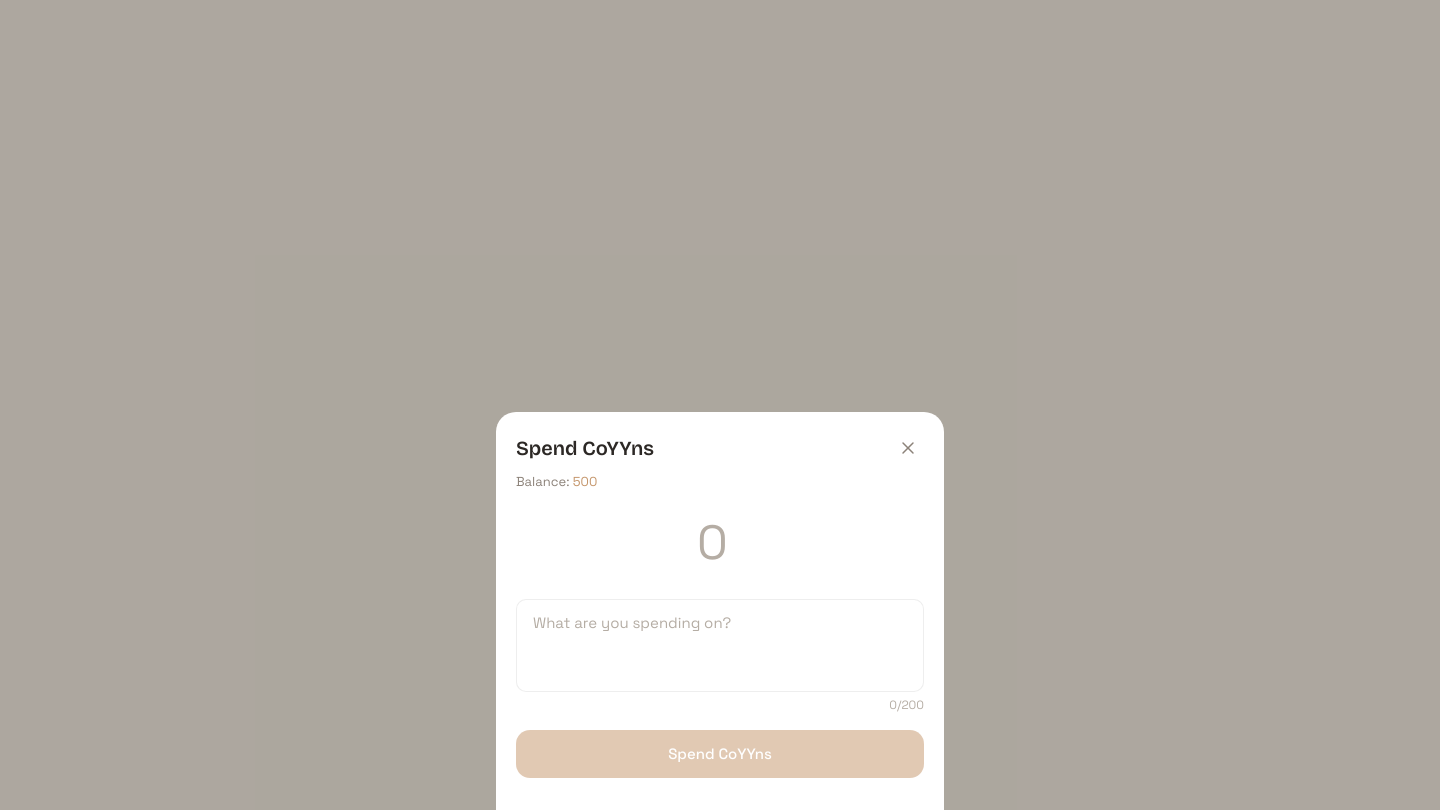
Test case: SpendCoyynsForm › amount within balance shows no warning and button is enabled when description provided
The image size is (1440, 810).
Type "100" into the number field with test id "spend-amount-input" at (720, 547), box 516,512 -> 924,582
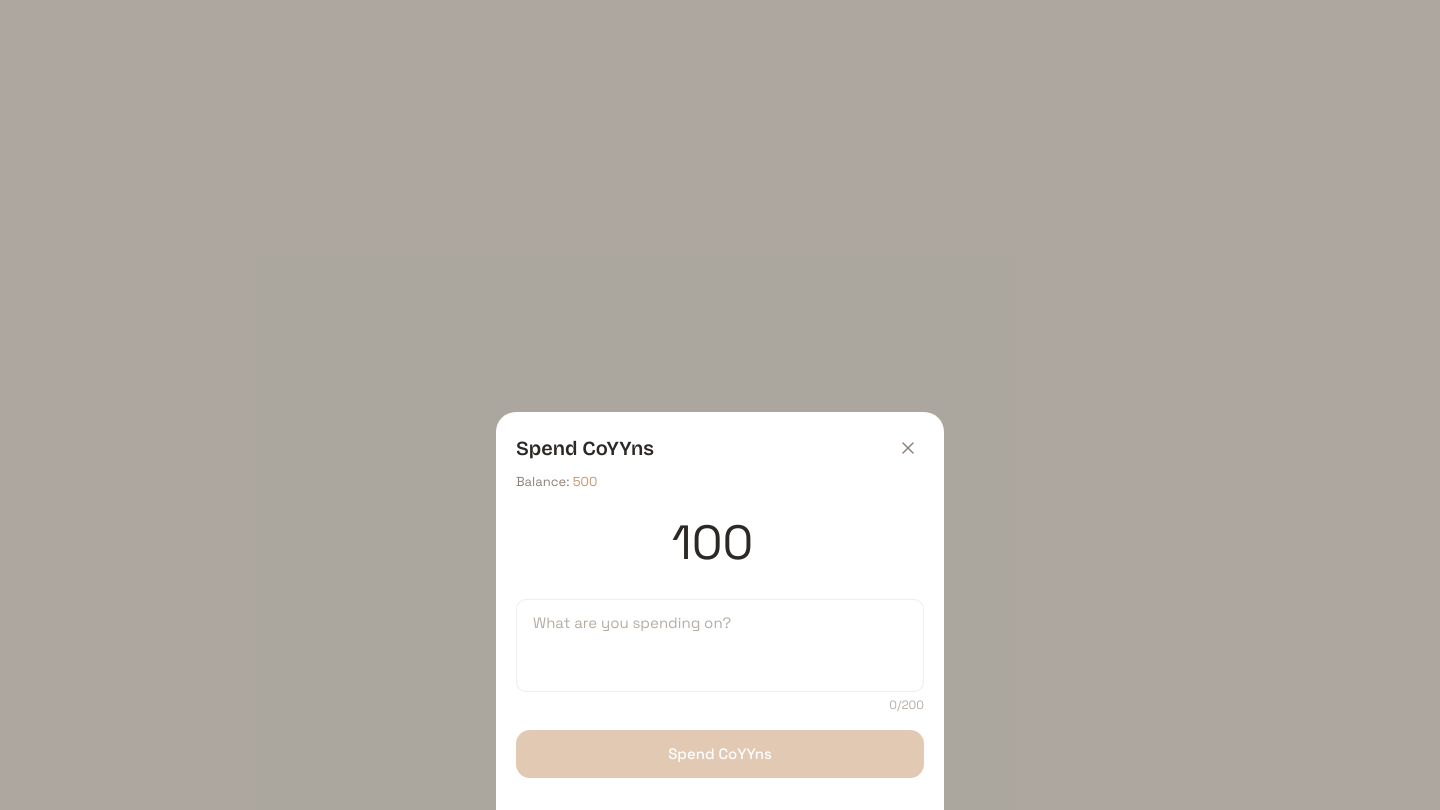
Type "Test spend" into the text box with test id "spend-description-input" at (720, 645), box 516,598 -> 924,692
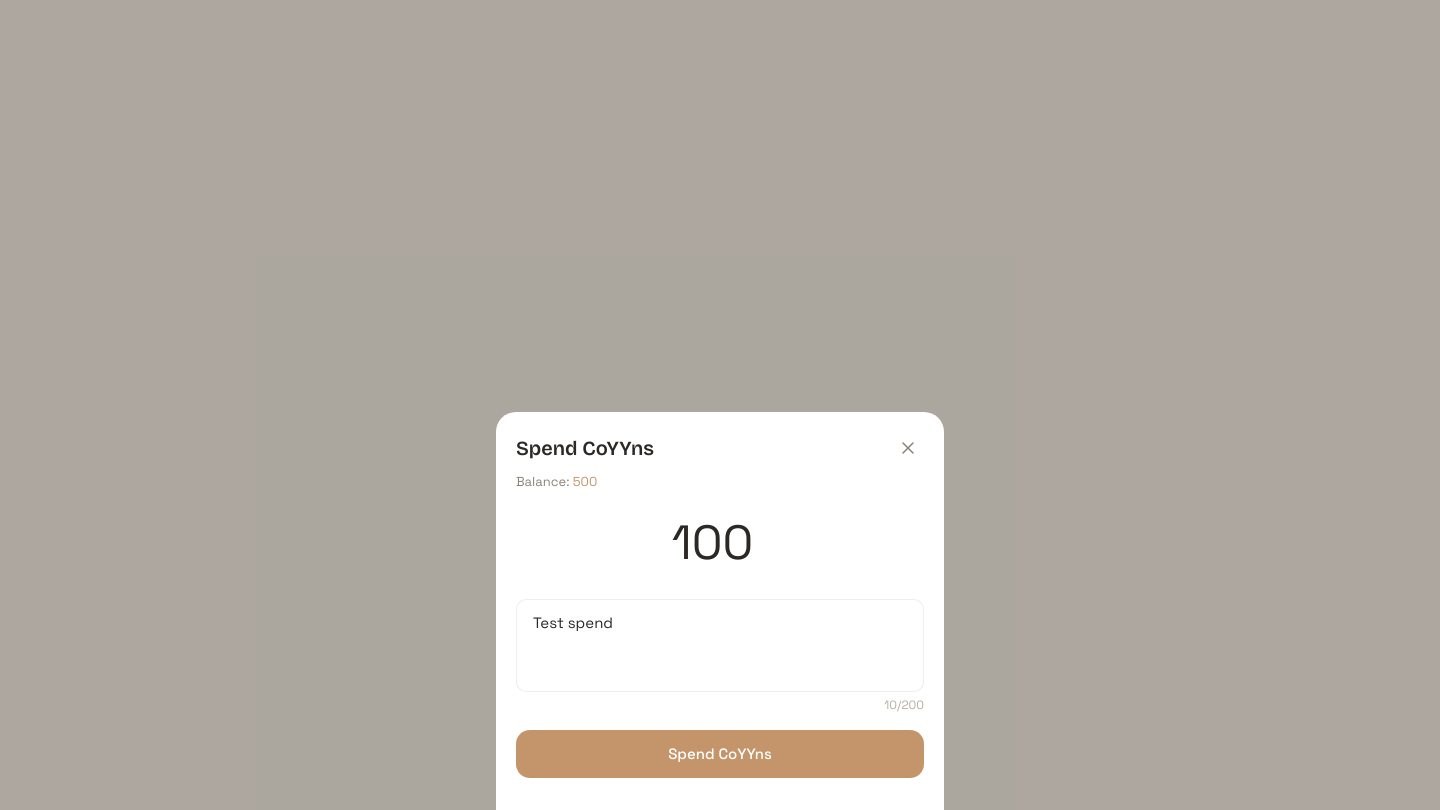
Result: the button with test id "spend-submit-button" is enabled at 516,730 -> 924,778
